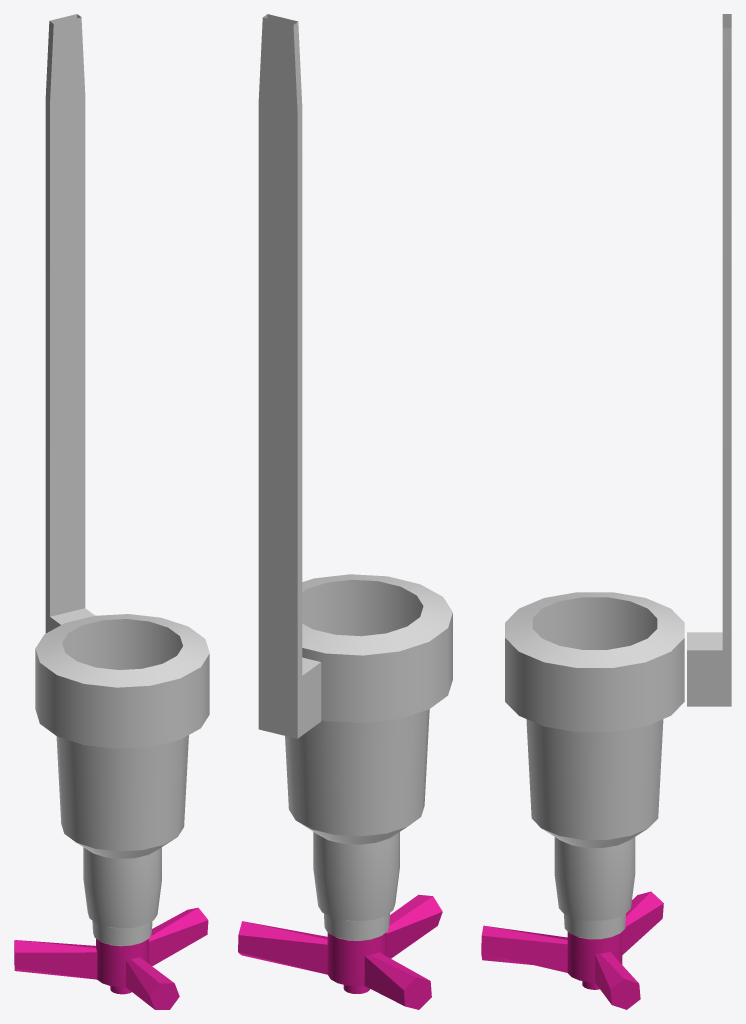
File: Dispenser.fbx
The picture shows the model from 3 angles, left to right: view 1: azimuth 30°, elevation 25°; view 2: azimuth 150°, elevation 25°; view 3: azimuth 270°, elevation 25°; orthographic projection. The views are drawn at different scales.
Visible parts, largest first — view 1: Dispenser; view 2: Dispenser; view 3: Dispenser.
Boxes of the visible parts, x1,y1,x2,y2 form: Dispenser: [14, 14, 209, 1009]; Dispenser: [238, 14, 452, 1009]; Dispenser: [481, 14, 731, 1009].
Bounding box in the file's own units: 7.1 × 34.57 × 8.12.
